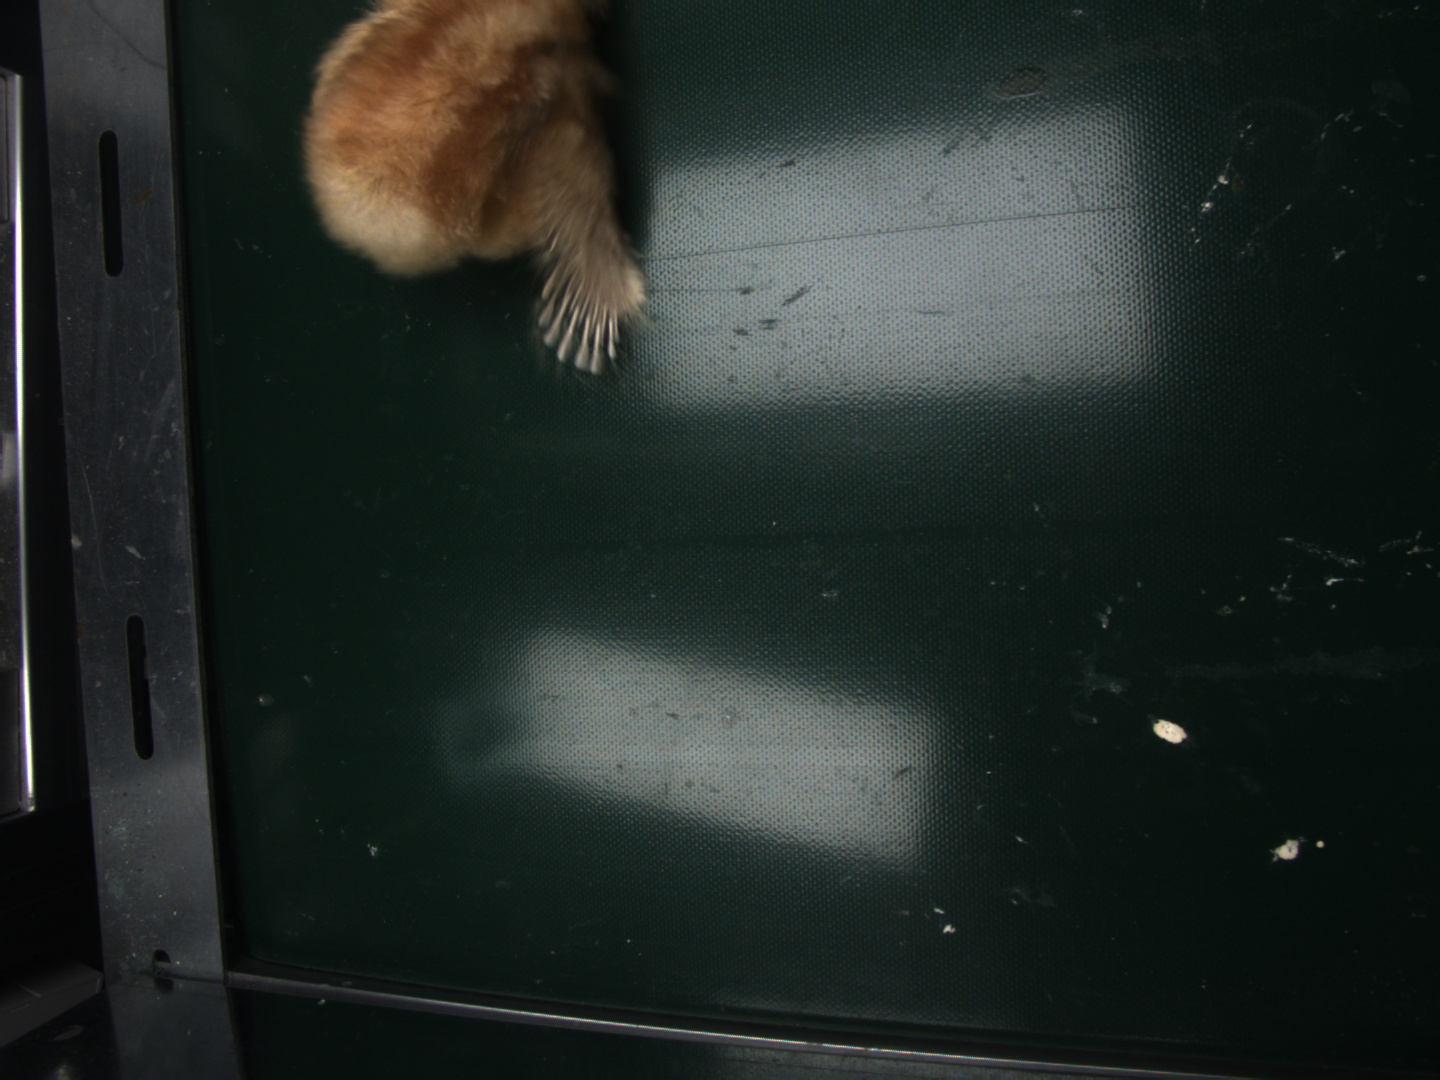female: (547, 263, 624, 374)
